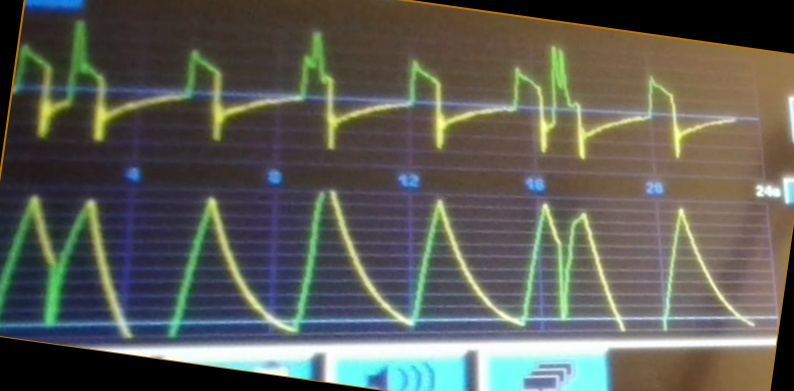Double_Triggering Flow: (19, 17, 696, 162)
Double_Triggering Volume: (2, 188, 639, 337)
